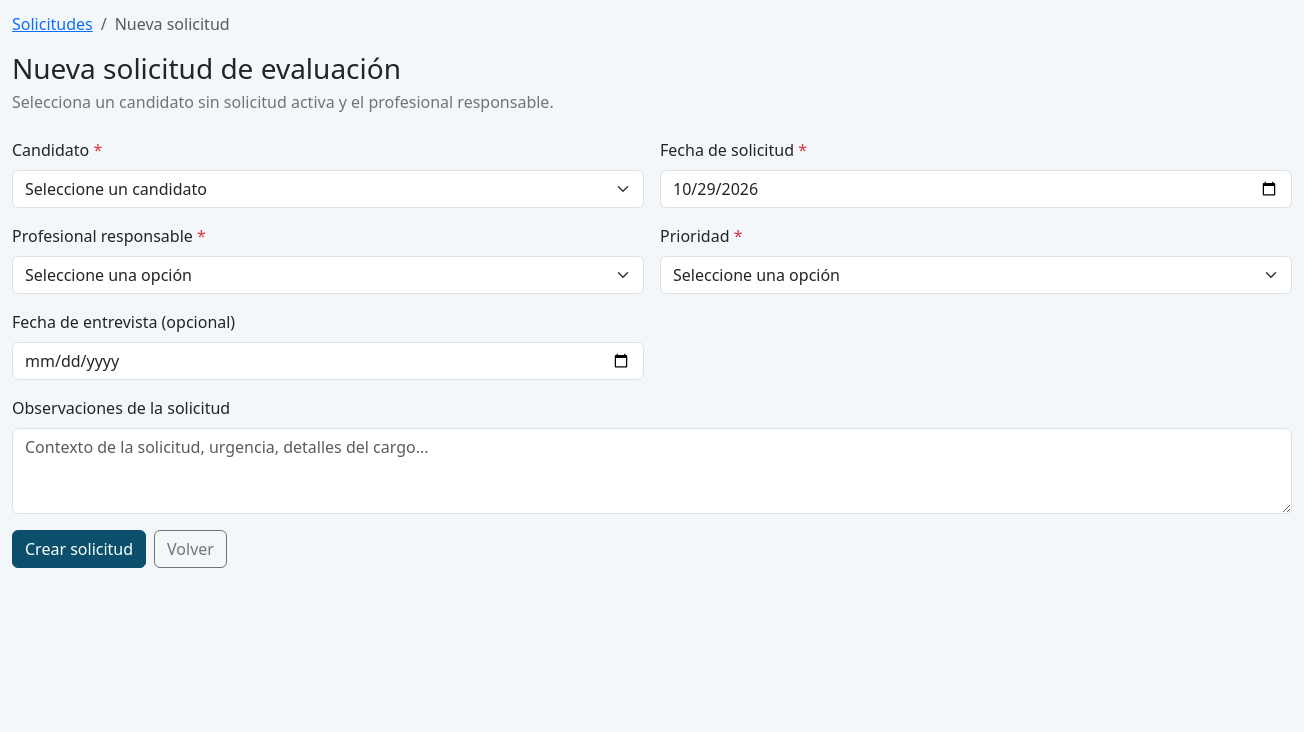
Test case: SolicitudFormPage › muestra el resumen del candidato seleccionado
Select "Constanza Fuentes · Ingeniero de Procesos" in the dropdown labelled "Candidato *": (328, 189) [12,170,644,208]
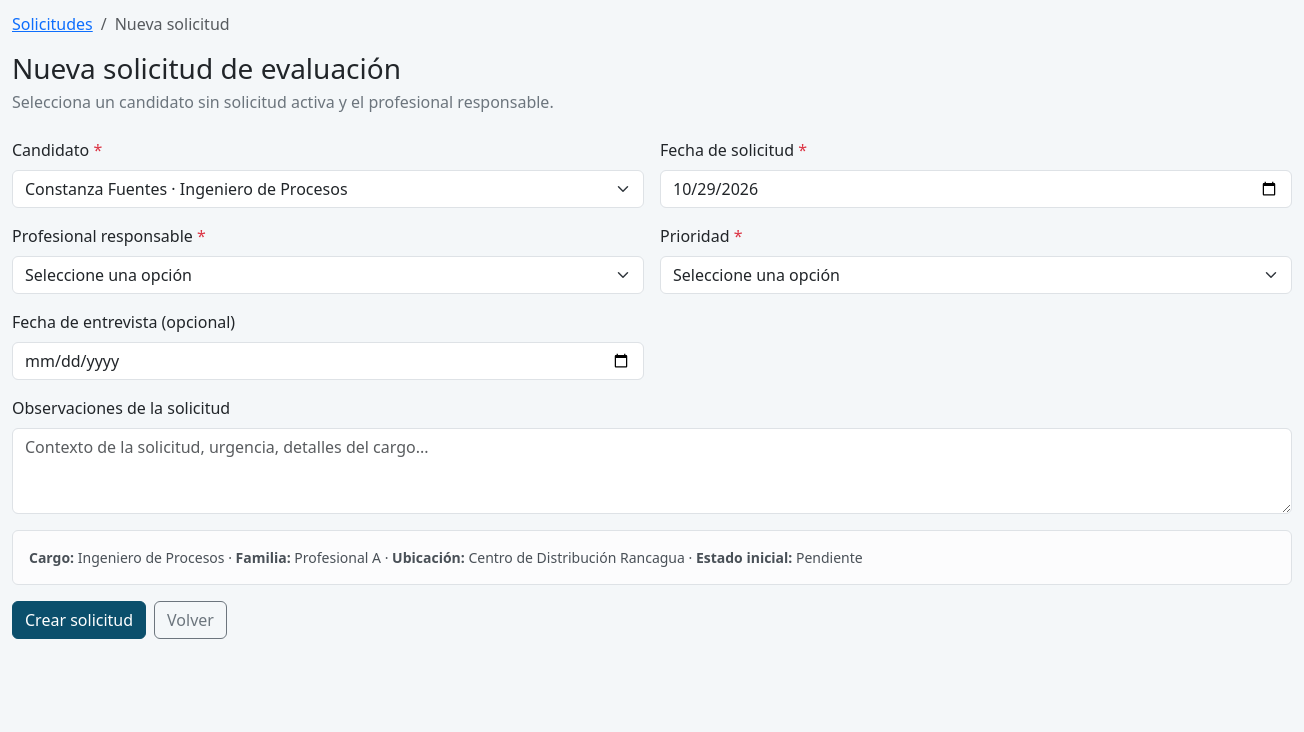
Result: the text "Estado inicial:" is shown at [696,548,792,567]
